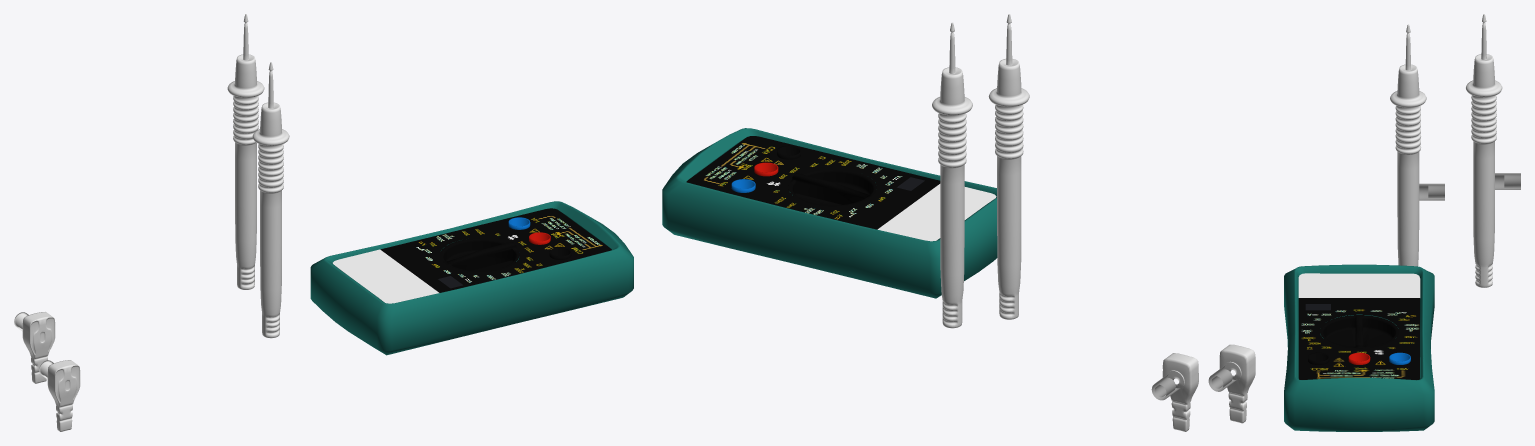
File: DigitalMultimeterWIthCables.gltf
3 views of the same model, side by side, from view 1: azimuth 30°, elevation 25°; view 2: azimuth 150°, elevation 25°; view 3: azimuth 270°, elevation 25° (orthographic). The views are drawn at different scales.
Visible parts, largest first — view 1: Body, Front Panel, Red_Pin.001, Black_Pin.001, Glass, Cursor, Red_Adapter, Black_Adapter; view 2: Body, Front Panel, Black_Pin.001, Red_Pin.001, Cursor, Glass, Red_Adapter, Black_Adapter; view 3: Body, Front Panel, Black_Pin.001, Red_Pin.001, Glass, Cursor, Red_Adapter, Black_Adapter, Pinout.001, Pinout.002, Pinout.
Part boxes in pixels (left/top/right/bottom): Body: left=310, top=201, right=633, bottom=355; Front Panel: left=380, top=208, right=611, bottom=292; Red_Pin.001: left=252, top=102, right=289, bottom=338; Black_Pin.001: left=227, top=54, right=264, bottom=289; Glass: left=333, top=249, right=438, bottom=303; Cursor: left=440, top=238, right=519, bottom=271; Red_Adapter: left=39, top=360, right=80, bottom=431; Black_Adapter: left=14, top=312, right=55, bottom=383; Body: left=662, top=128, right=997, bottom=298; Front Panel: left=686, top=136, right=940, bottom=229; Black_Pin.001: left=932, top=67, right=972, bottom=328; Red_Pin.001: left=988, top=59, right=1029, bottom=319; Cursor: left=788, top=168, right=876, bottom=206; Glass: left=877, top=184, right=996, bottom=241; Red_Adapter: left=1208, top=344, right=1255, bottom=423; Black_Adapter: left=1151, top=353, right=1198, bottom=431; Body: left=1284, top=264, right=1434, bottom=431; Front Panel: left=1298, top=298, right=1419, bottom=379; Black_Pin.001: left=1466, top=54, right=1502, bottom=287; Red_Pin.001: left=1390, top=64, right=1426, bottom=266; Glass: left=1298, top=273, right=1420, bottom=297; Cursor: left=1319, top=315, right=1398, bottom=348; Red_Adapter: left=1419, top=183, right=1444, bottom=200; Black_Adapter: left=1495, top=173, right=1520, bottom=189; Pinout.001: left=1348, top=352, right=1370, bottom=364; Pinout.002: left=1308, top=352, right=1329, bottom=364; Pinout: left=1389, top=352, right=1410, bottom=364.
Bounding box in the file's own units: 0.2838 × 0.1699 × 0.1101.
Materials: 11 (2 with a texture image).
